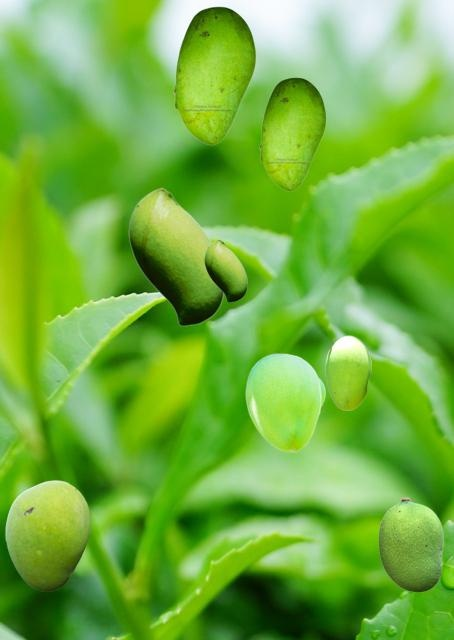green_mango: (128, 187, 223, 325), (173, 6, 255, 144), (5, 480, 89, 590), (259, 77, 325, 190), (245, 353, 320, 451), (378, 497, 442, 591), (325, 335, 370, 409), (204, 239, 246, 301), (319, 377, 324, 407)
